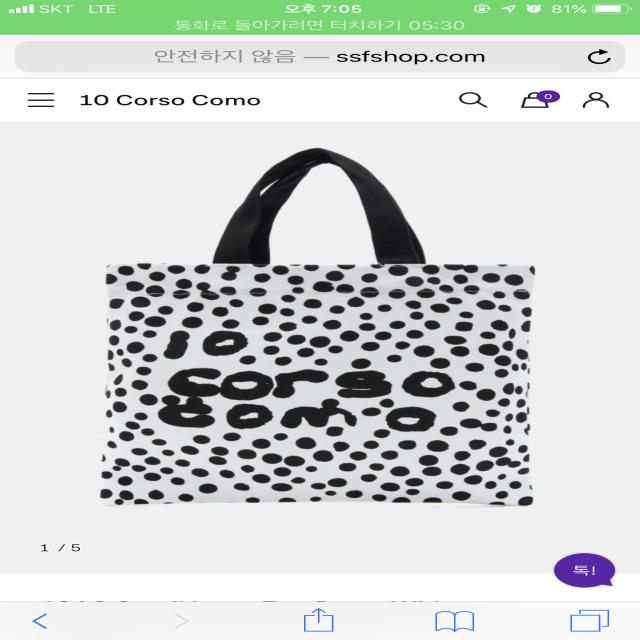ecobag: (76, 140, 567, 518)
